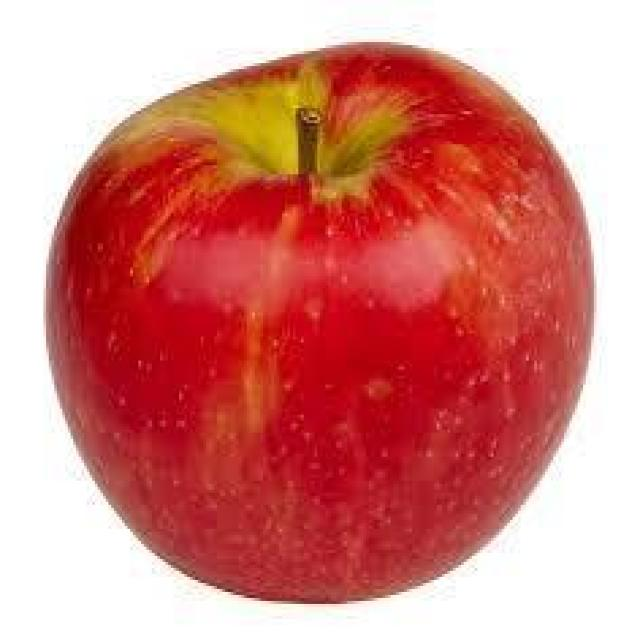maca: (41, 36, 596, 604)
